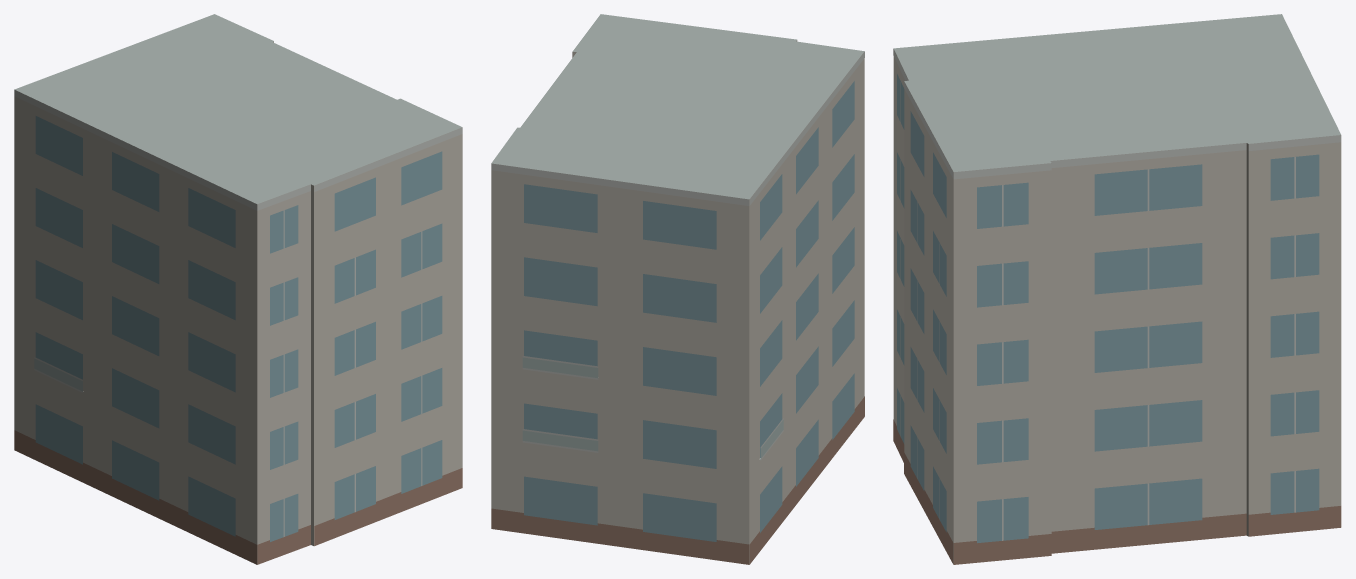
File: survey-upis-32859119.glb
3 renders of one model, left to right at view 1: azimuth 30°, elevation 25°; view 2: azimuth 150°, elevation 25°; view 3: azimuth 270°, elevation 25°, orthographic. The views are drawn at different scales.
Parts seen in each view (by area): view 1: survey-upis-32859119.tmp; view 2: survey-upis-32859119.tmp; view 3: survey-upis-32859119.tmp.
Part boxes in pixels (left/top/right/bottom): survey-upis-32859119.tmp: left=14, top=14, right=462, bottom=564; survey-upis-32859119.tmp: left=491, top=14, right=864, bottom=564; survey-upis-32859119.tmp: left=893, top=14, right=1341, bottom=564.
Bounding box in the file's own units: 11.41 × 13.2 × 13.65.
